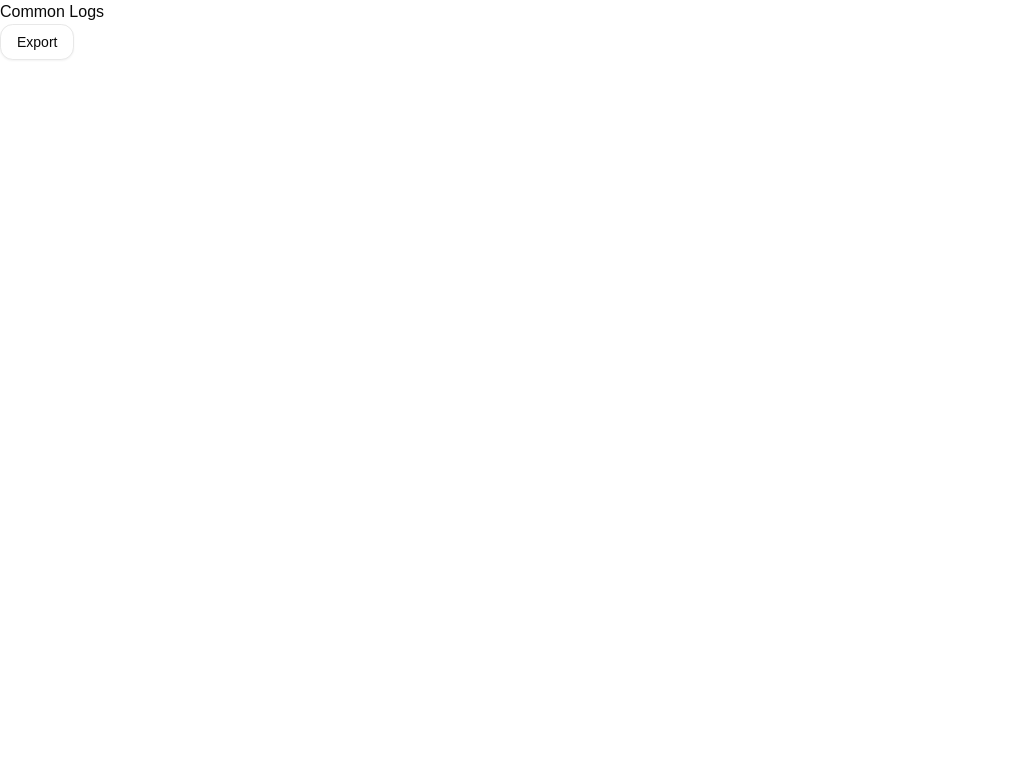
Test: blocks a range longer than the configured limit before any request
The width and height of the screenshot is (1024, 768).
Click the button "Export": (37, 42) x1=0 y1=24 x2=74 y2=60
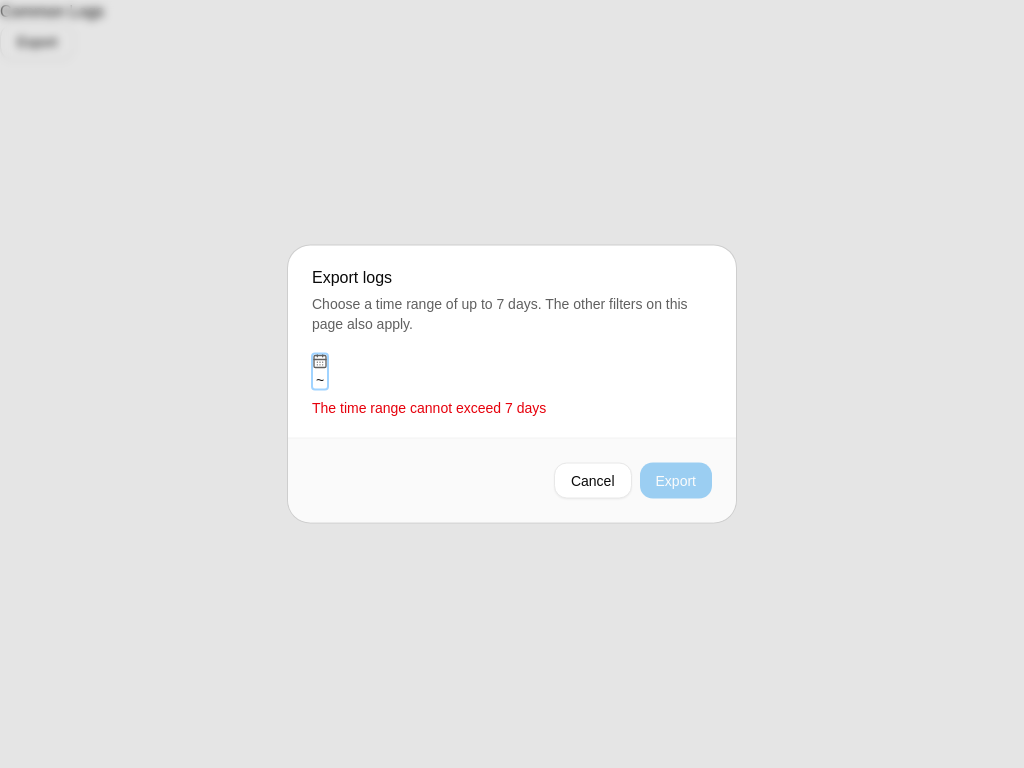
expect the message reads "The time range cannot exceed 7 days": met, box x1=312 y1=400 x2=546 y2=416
expect the button "Export" is disabled: met, box x1=640 y1=462 x2=712 y2=498
